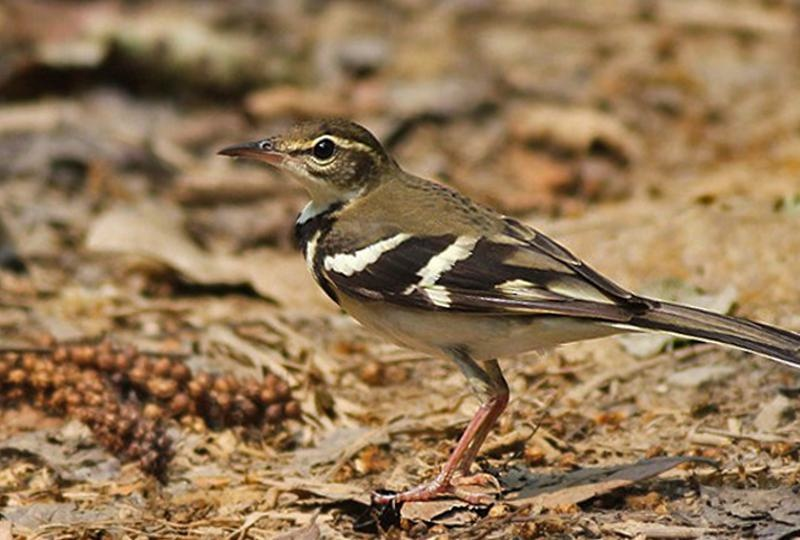wagtail: (245, 116, 762, 460)
